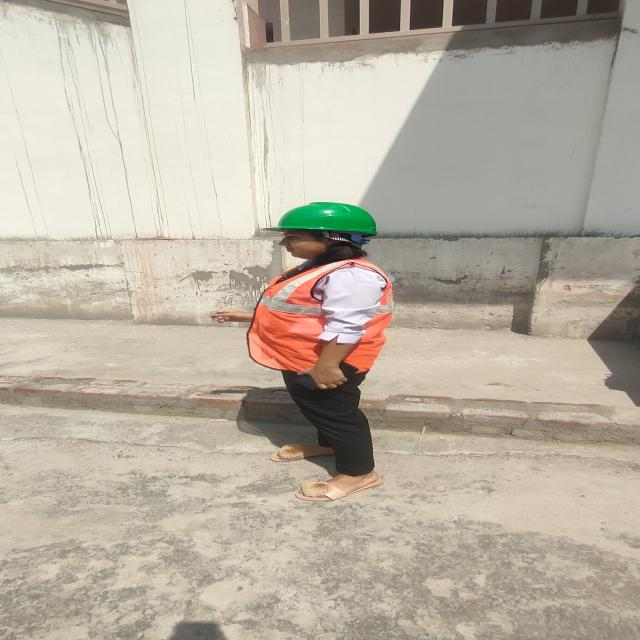safe: (246, 202, 393, 501)
